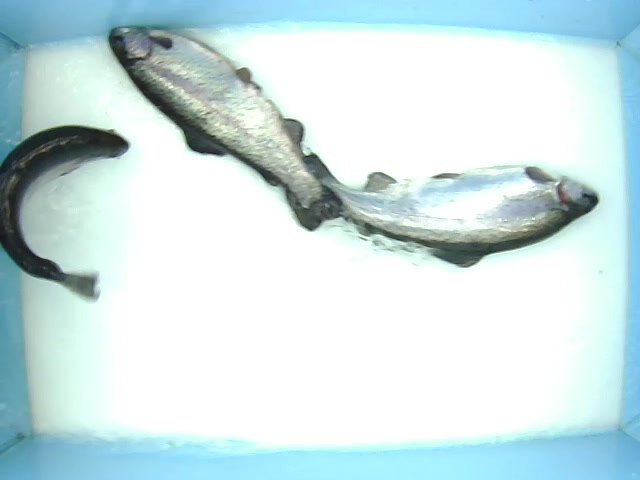fish: (106, 26, 338, 235), (280, 150, 599, 270), (1, 122, 131, 306)
